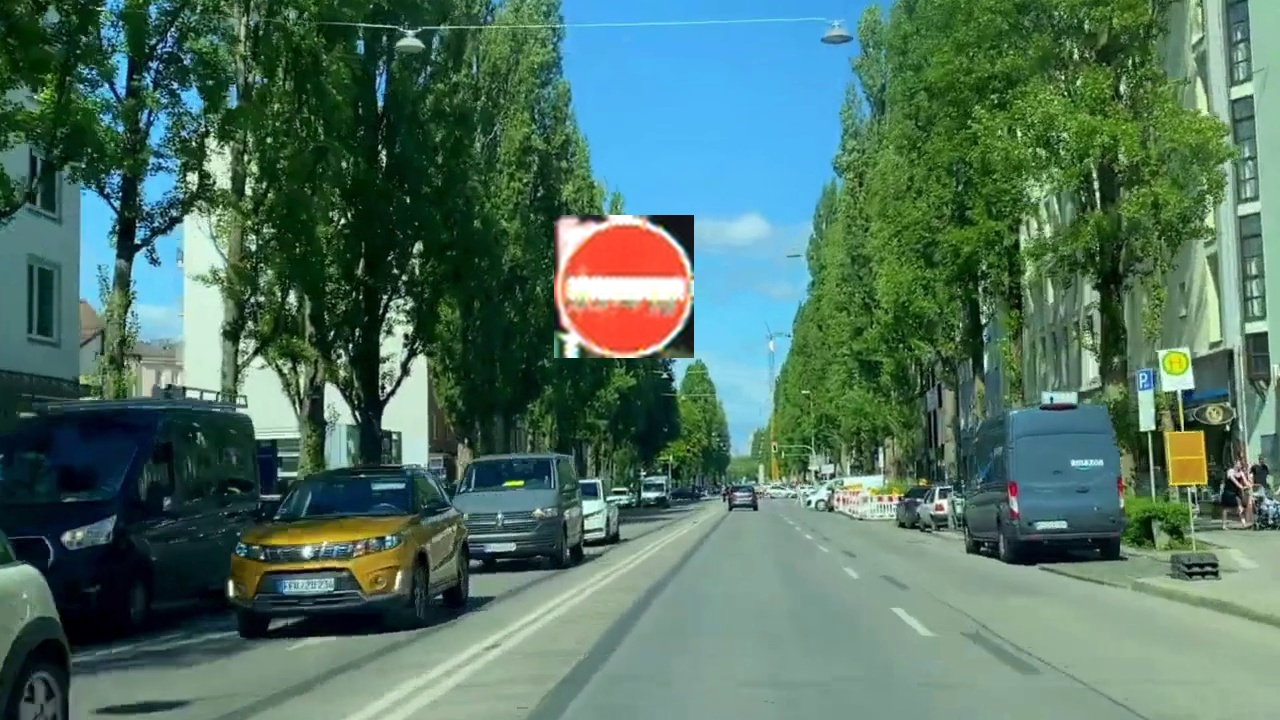No entry: (554, 215, 694, 358)
